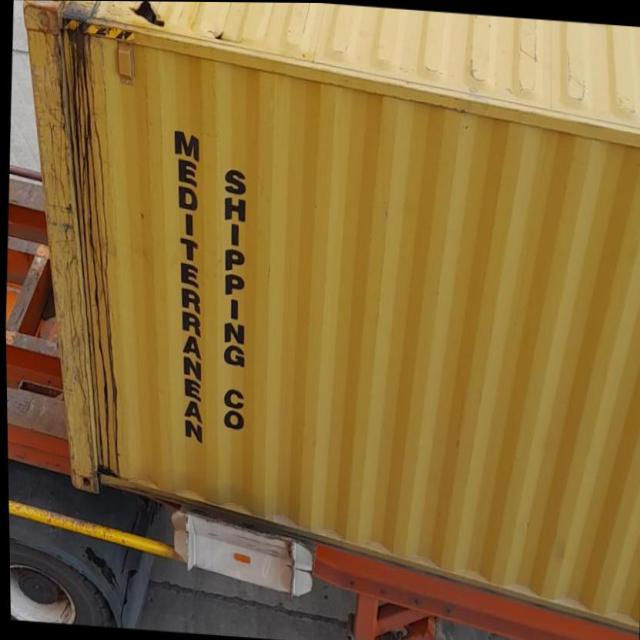hole: (127, 2, 171, 31), (205, 30, 242, 46)
